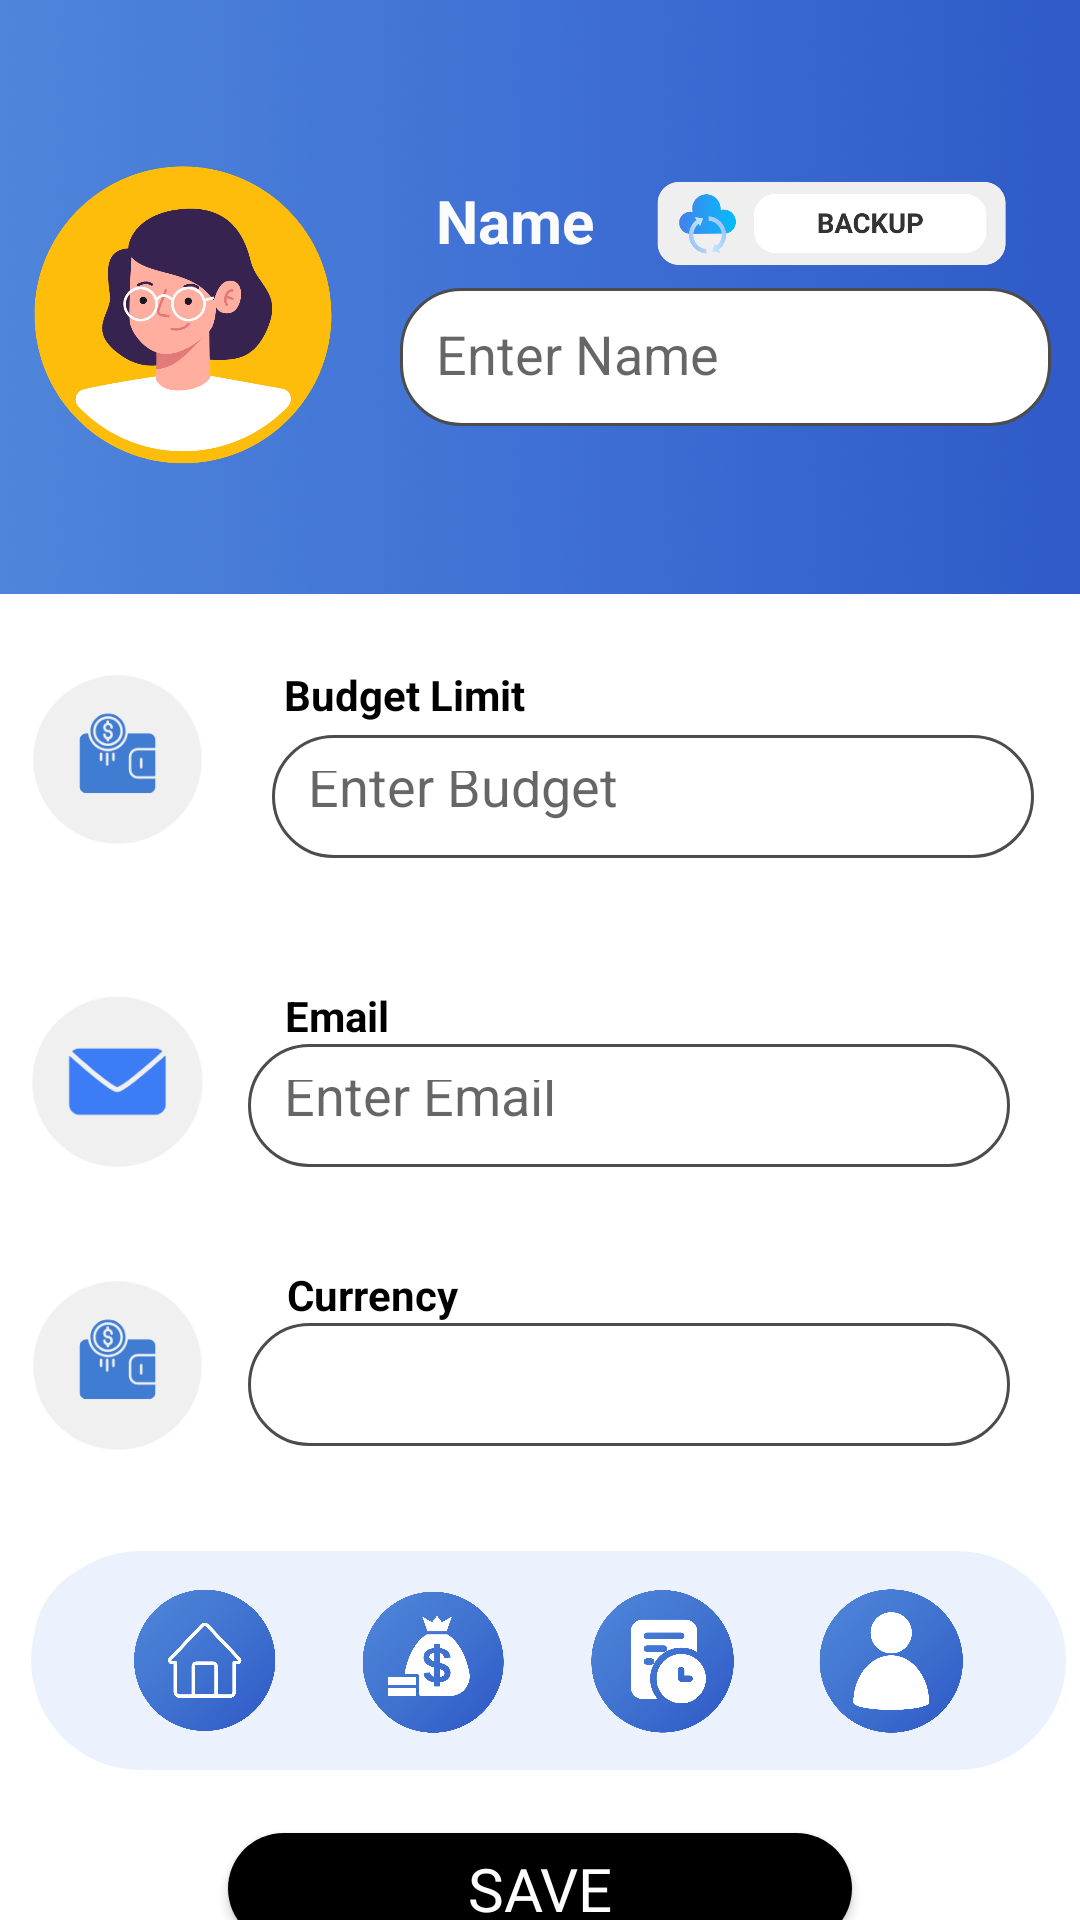

Icon bounding boxes for this 1080 × 1920 phone screenshot, format (x1, y1, x2, y2):
mailf: (68, 1048, 166, 1116)
